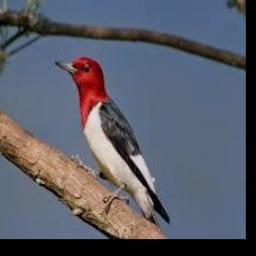Woodpecker: (55, 56, 171, 232)
